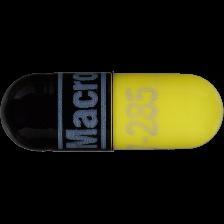55289-822: (0, 0, 224, 224)
